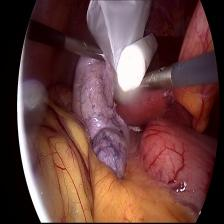Grasper: (76, 38, 110, 66), (133, 68, 169, 94)
Specimen Bag: (84, 0, 160, 100)
